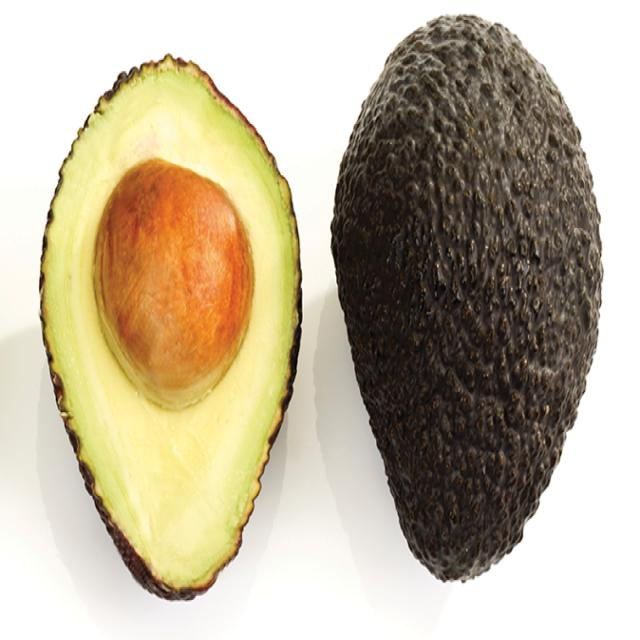avocado: (332, 18, 604, 584), (40, 56, 302, 600)
